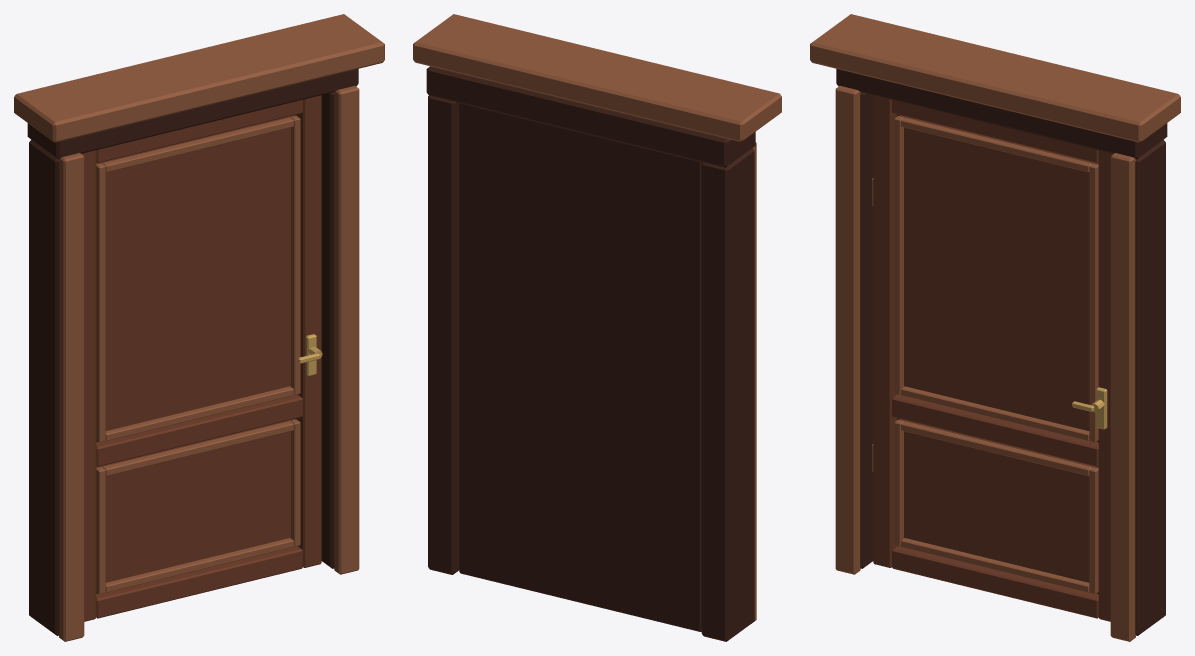
The model's file is door_04.glb.
The picture shows the model from 3 angles, left to right: view 1: azimuth 30°, elevation 25°; view 2: azimuth 150°, elevation 25°; view 3: azimuth 330°, elevation 25°; orthographic projection.
Parts seen in each view (by area): view 1: Panel_0_1_Field, Panel_0_0_Field, Cornice, Jamb__1, Jamb_moulding_1, Jamb_moulding__1, Leaf_stile_0_1, Jamb_1, Leaf_stile_0__1, Lintel, Leaf_crossrail_0_0_048, Leaf_crossrail_0_0_778 (+9 smaller); view 2: Leaf_0, Jamb__1, Cornice, Jamb_1, Lintel, Jamb_moulding__1; view 3: Panel_0_1_Field, Panel_0_0_Field, Cornice, Jamb_1, Jamb_moulding_1, Jamb_moulding__1, Leaf_stile_0__1, Jamb__1, Lintel, Leaf_stile_0_1, Leaf_crossrail_0_0_048, Leaf_crossrail_0_0_778 (+9 smaller).
Part boxes in pixels (x1,y1,x2,y2): Panel_0_1_Field: [96, 115, 295, 430]; Panel_0_0_Field: [96, 419, 295, 582]; Cornice: [14, 14, 384, 142]; Jamb__1: [29, 139, 59, 635]; Jamb_moulding_1: [334, 86, 359, 574]; Jamb_moulding__1: [59, 153, 84, 641]; Leaf_stile_0_1: [297, 95, 321, 567]; Jamb_1: [321, 92, 334, 568]; Leaf_stile_0__1: [81, 150, 96, 621]; Lintel: [27, 69, 358, 159]; Leaf_crossrail_0_0_048: [96, 546, 302, 618]; Leaf_crossrail_0_0_778: [96, 394, 302, 466]; Leaf_0: [459, 103, 702, 631]; Jamb__1: [701, 148, 754, 641]; Cornice: [413, 14, 781, 141]; Jamb_1: [428, 95, 459, 574]; Lintel: [426, 66, 755, 167]; Jamb_moulding__1: [751, 142, 756, 623]; Panel_0_1_Field: [899, 115, 1098, 430]; Panel_0_0_Field: [899, 419, 1098, 582]; Cornice: [810, 14, 1180, 142]; Jamb_1: [1135, 139, 1165, 635]; Jamb_moulding_1: [1110, 153, 1135, 641]; Jamb_moulding__1: [835, 86, 860, 574]; Leaf_stile_0__1: [873, 95, 897, 567]; Jamb__1: [860, 92, 873, 568]; Lintel: [836, 69, 1167, 159]; Leaf_stile_0_1: [1098, 150, 1113, 621]; Leaf_crossrail_0_0_048: [892, 546, 1098, 618]; Leaf_crossrail_0_0_778: [892, 394, 1098, 466].
Bounding box in the file's own units: 1.67 × 2.55 × 0.37.
